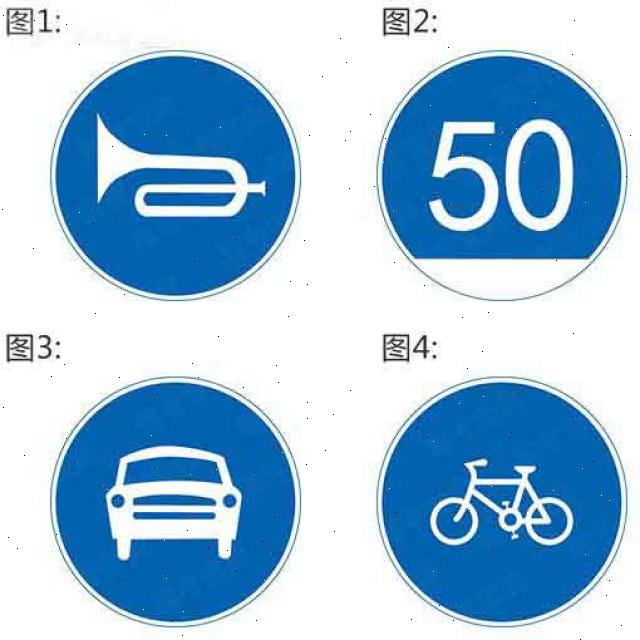speed limit 50: (374, 49, 628, 304)
